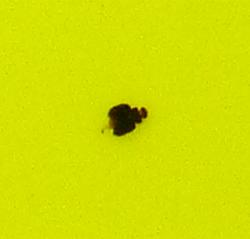Coleoptera: (100, 100, 150, 139)
